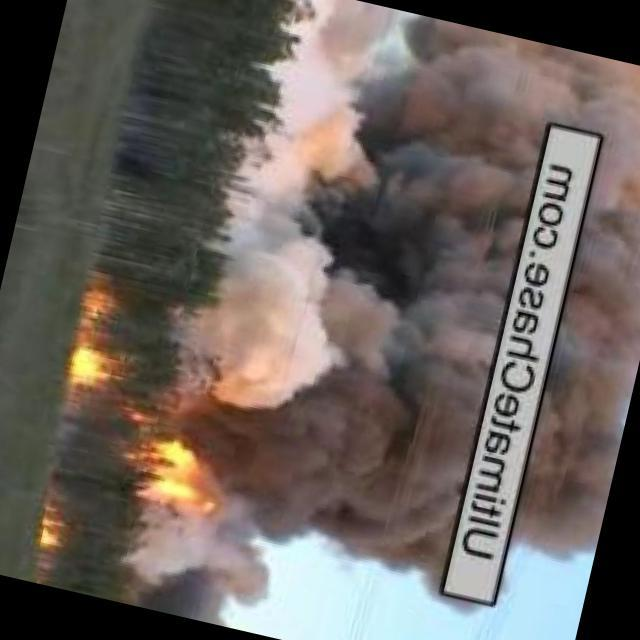Fire: (126, 431, 233, 524), (71, 340, 120, 392), (79, 281, 126, 321), (39, 513, 66, 552)
